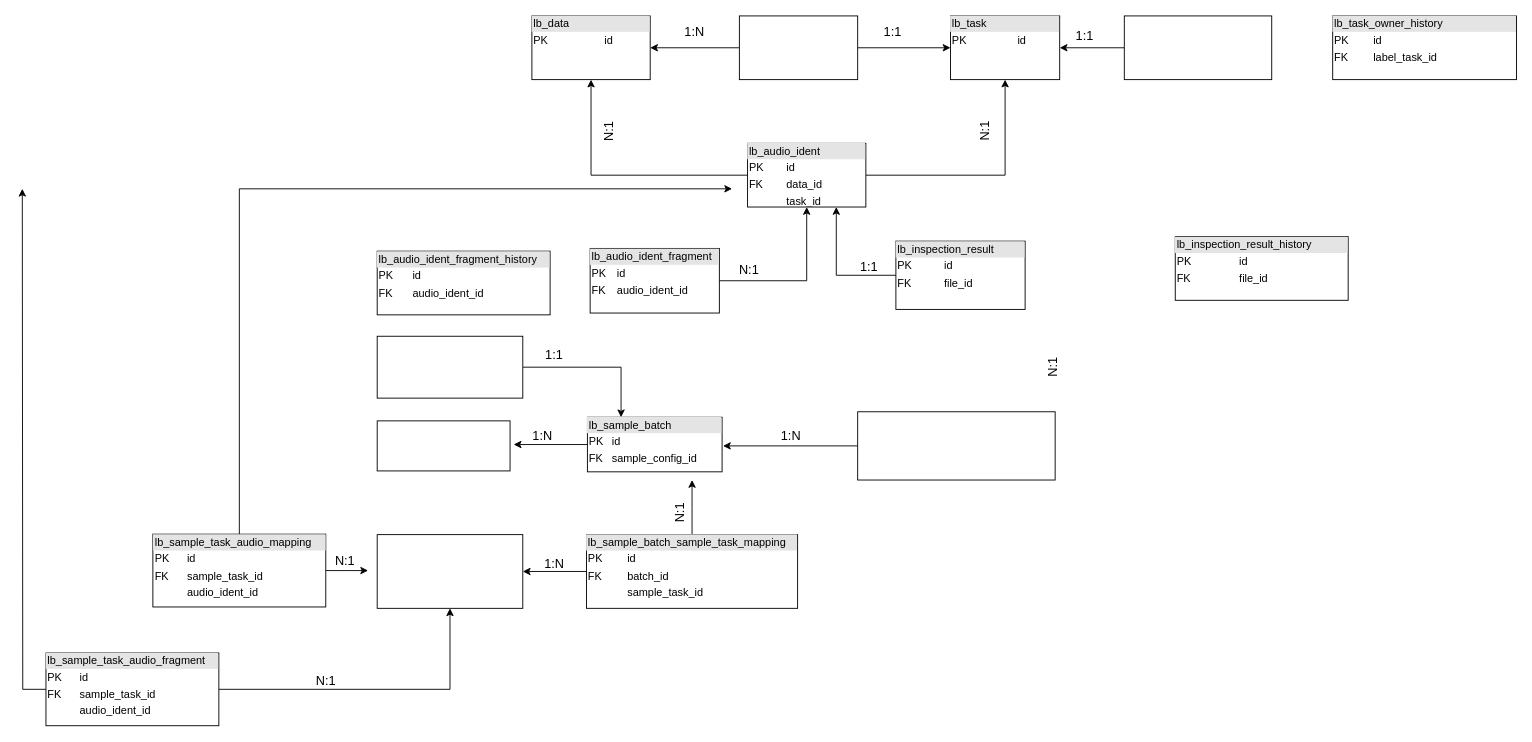
Some shapes in this 1532 by 742 pixel diagram are drawn without their labels. The centre of each missing label's shape, as x and y in pixels:
lb_data_task_mapper PK id FK data_id task_id: (x=798, y=47)
lb_sample_batch_label_task_mapping PK id FK batch_id label_task_id: (x=956, y=445)
lb_sample_batch_statistics PK id FK batch_id: (x=449, y=366)
lb_sample_config PK id: (x=443, y=445)
lb_sample_task PK id: (x=449, y=571)
lb_task_extend PK id FK task_id: (x=1197, y=47)
